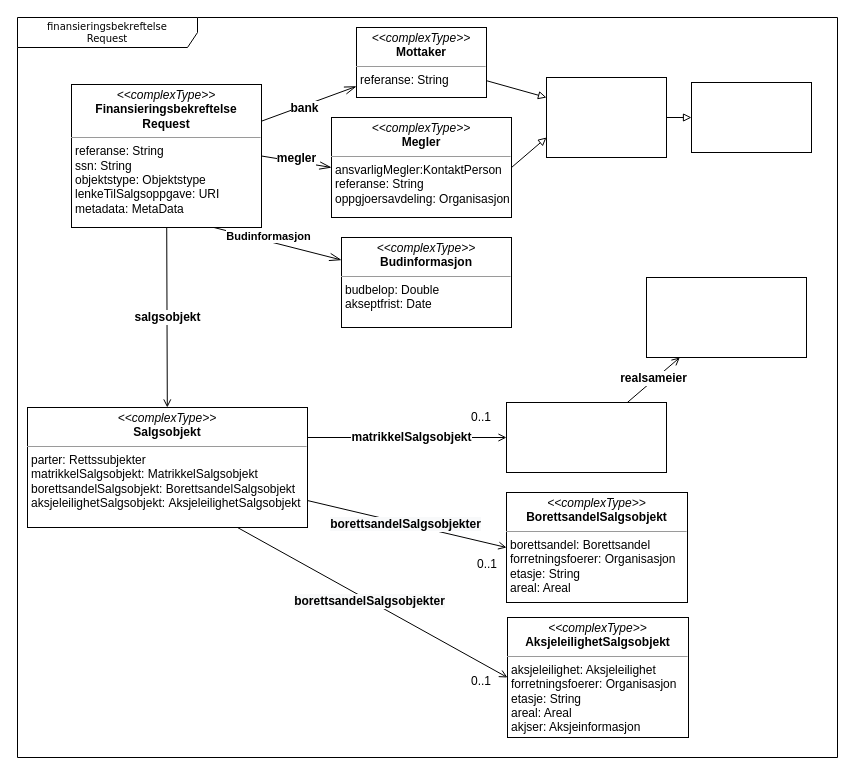
This 855x775 diagram has some shape labels left out. The box of each missing label's shape, as (x1, y1, x2, y2) in pixels:
<<complexType>> MatrikkelSalgsobjekt matrikkel: Matrikkel: (506, 402, 666, 472)
<<complexType>> Organisasjon foretaksnavn: String adresse: Adresse: (546, 76, 666, 158)
<<complexType>> Realsameie matrikkel: Matrikkel eierBroek :Broek: (646, 276, 806, 358)
<<complexType>> Rettssubjekt id: String: (690, 82, 812, 152)
